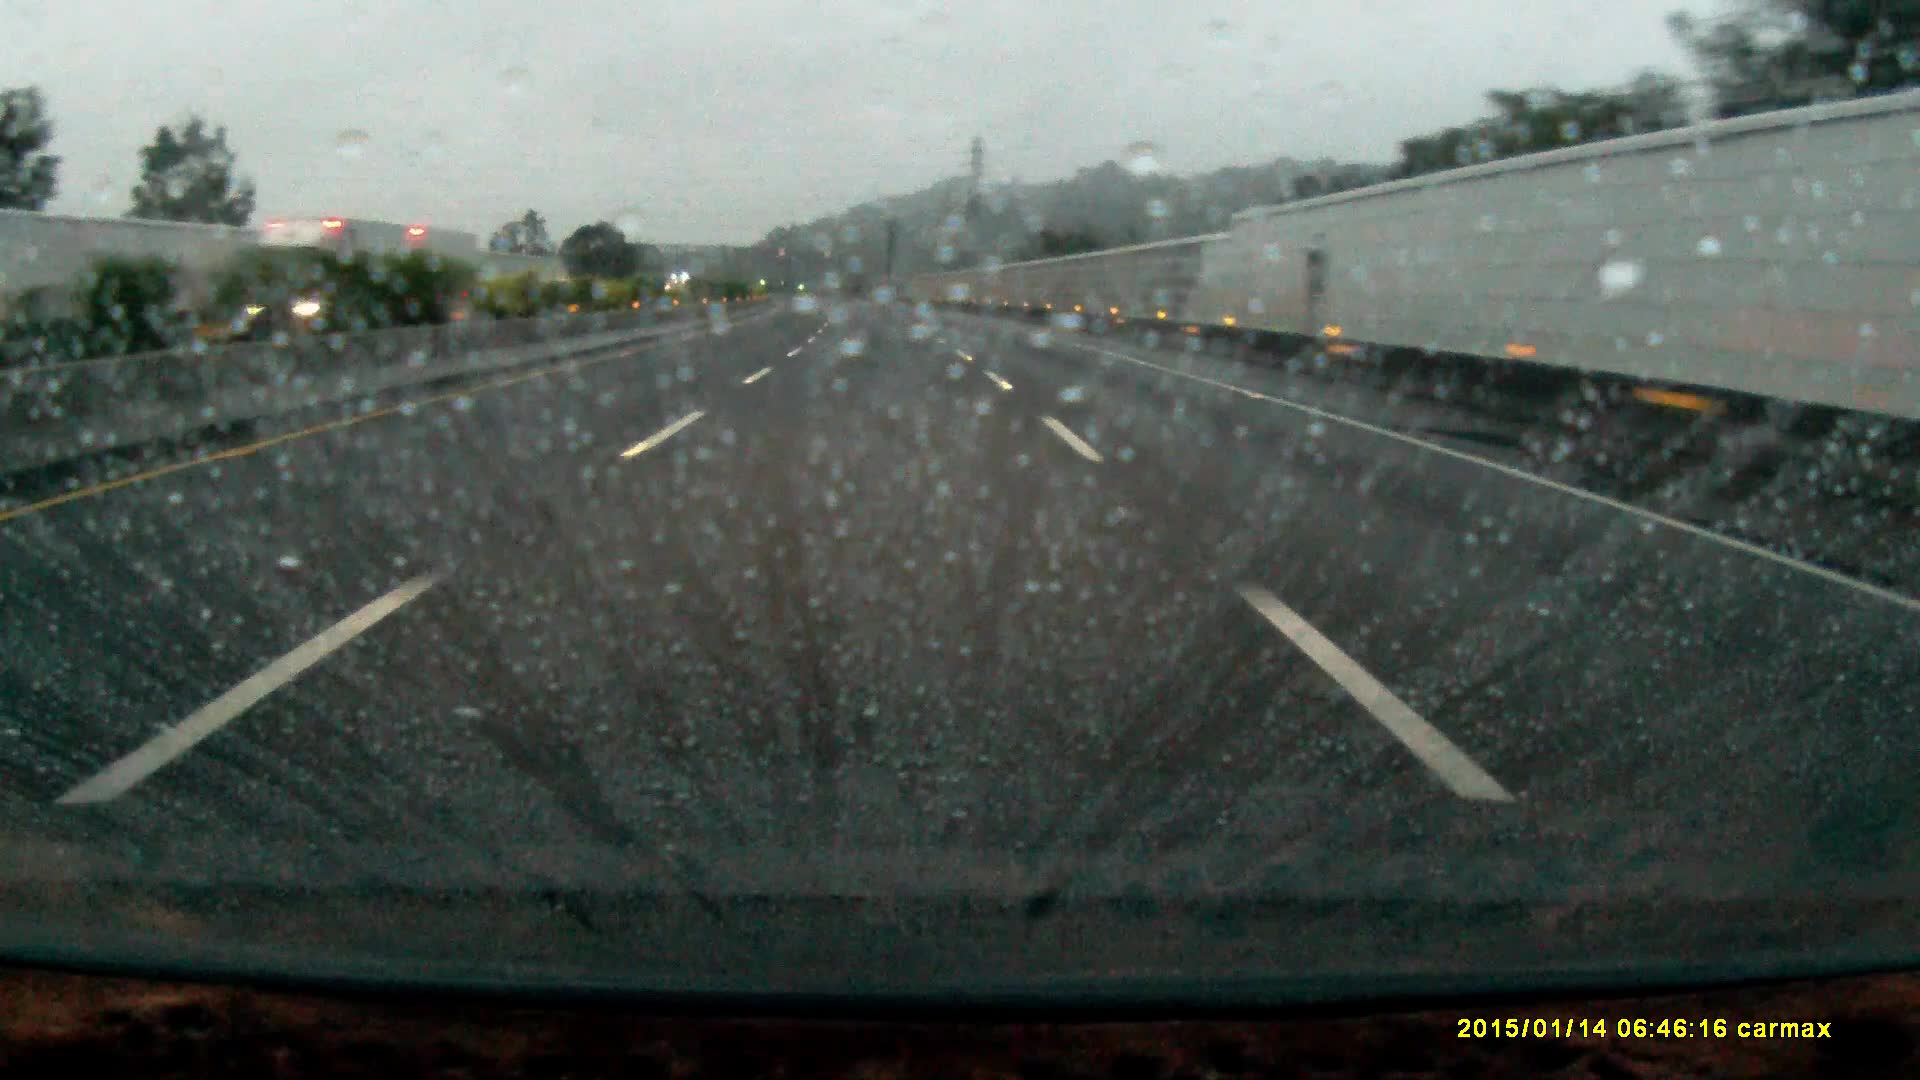vehicle: (233, 222, 485, 328)
